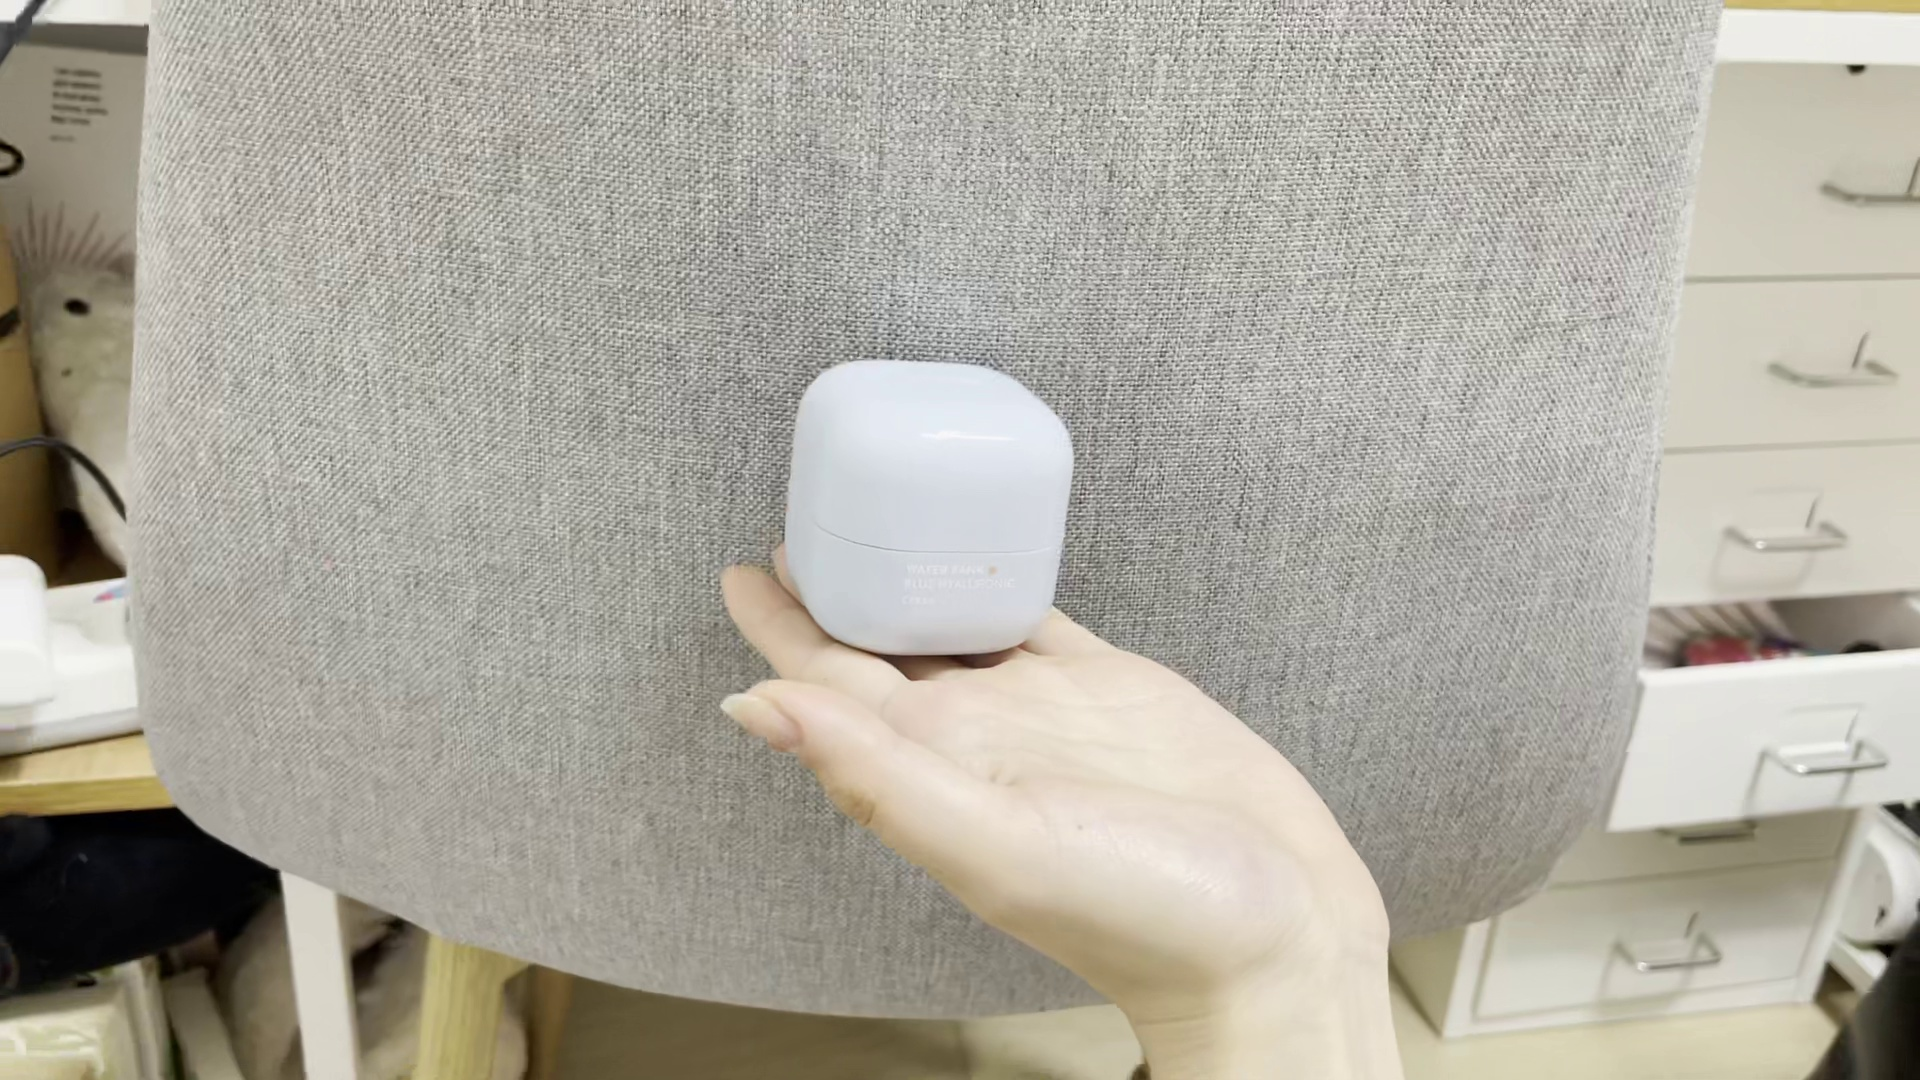cream: (786, 363, 1069, 651)
